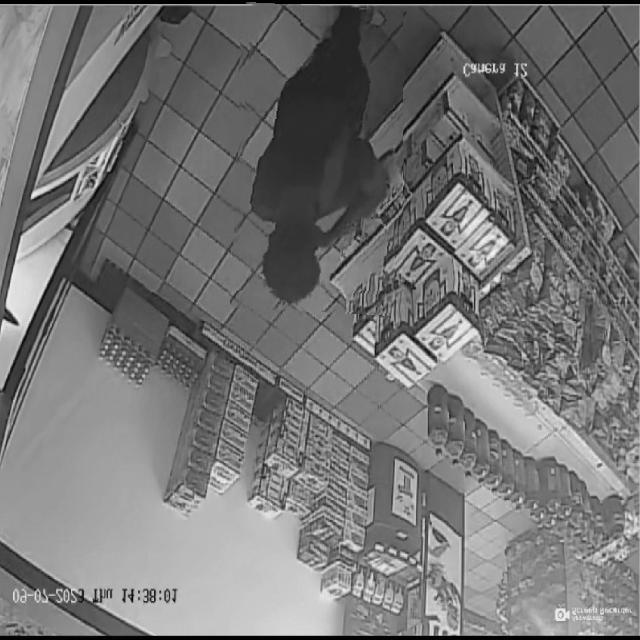Normal: (234, 4, 403, 314)
